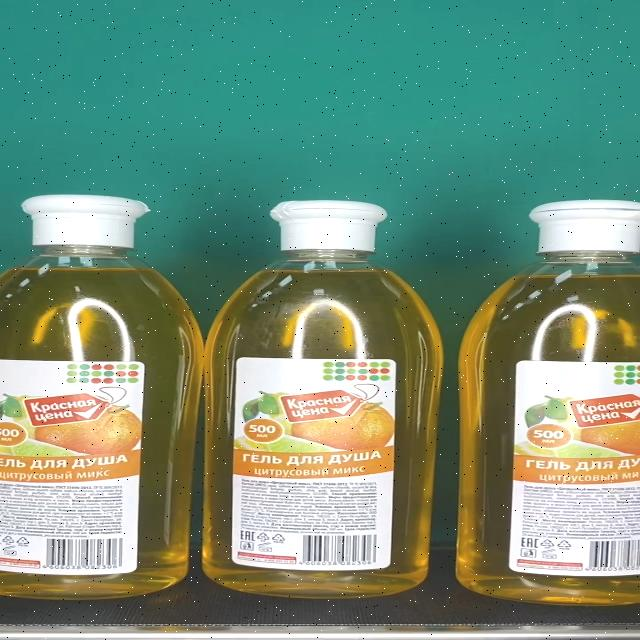Bottle: (201, 200, 446, 599), (0, 196, 206, 600)
Cap: (20, 195, 150, 248), (270, 201, 387, 251)
